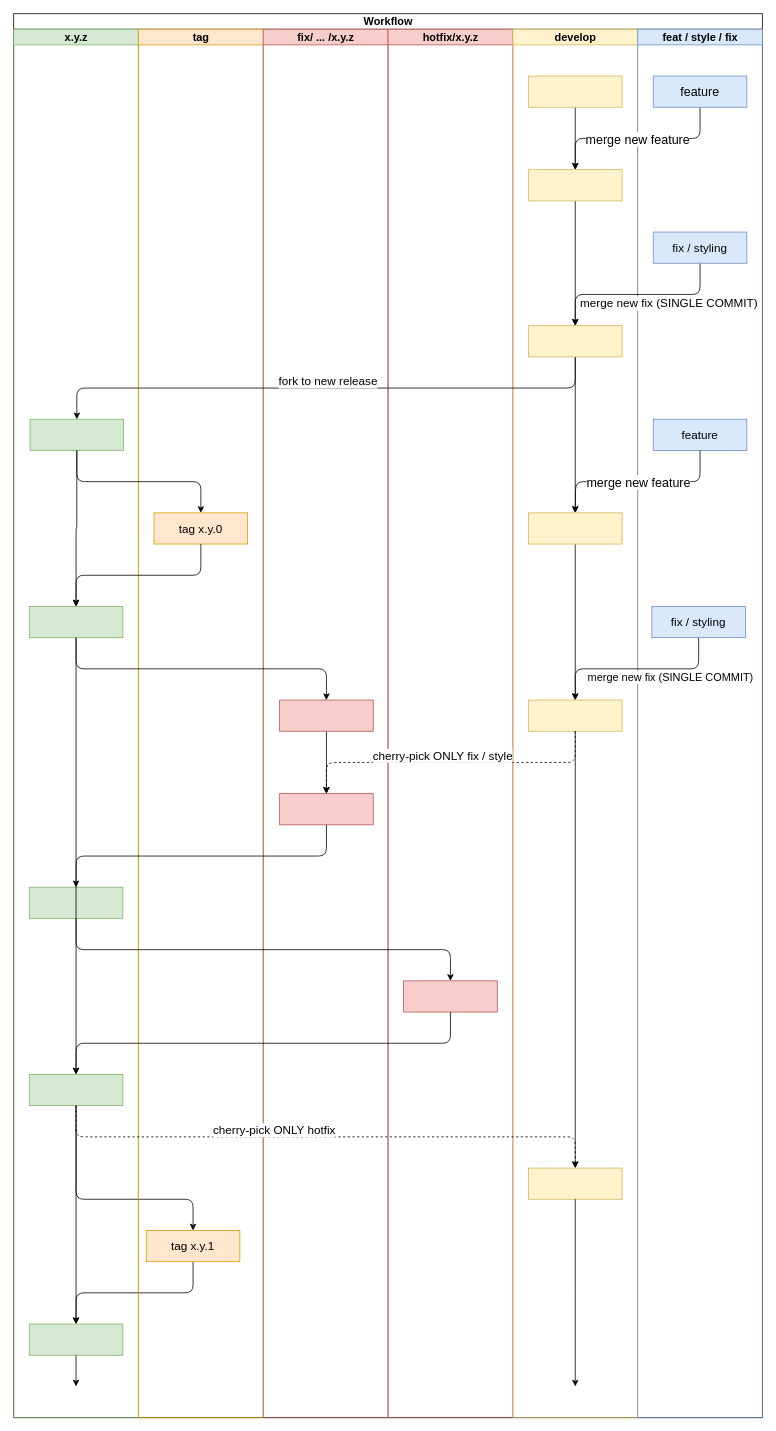
This 776x1431 diagram has some shape labels left out. The shapes that lost their labels are listed below. From the top down, each one's centre as x and y in pixels, then its label:
the point at 326,809: fix
the point at 450,996: hotfix
